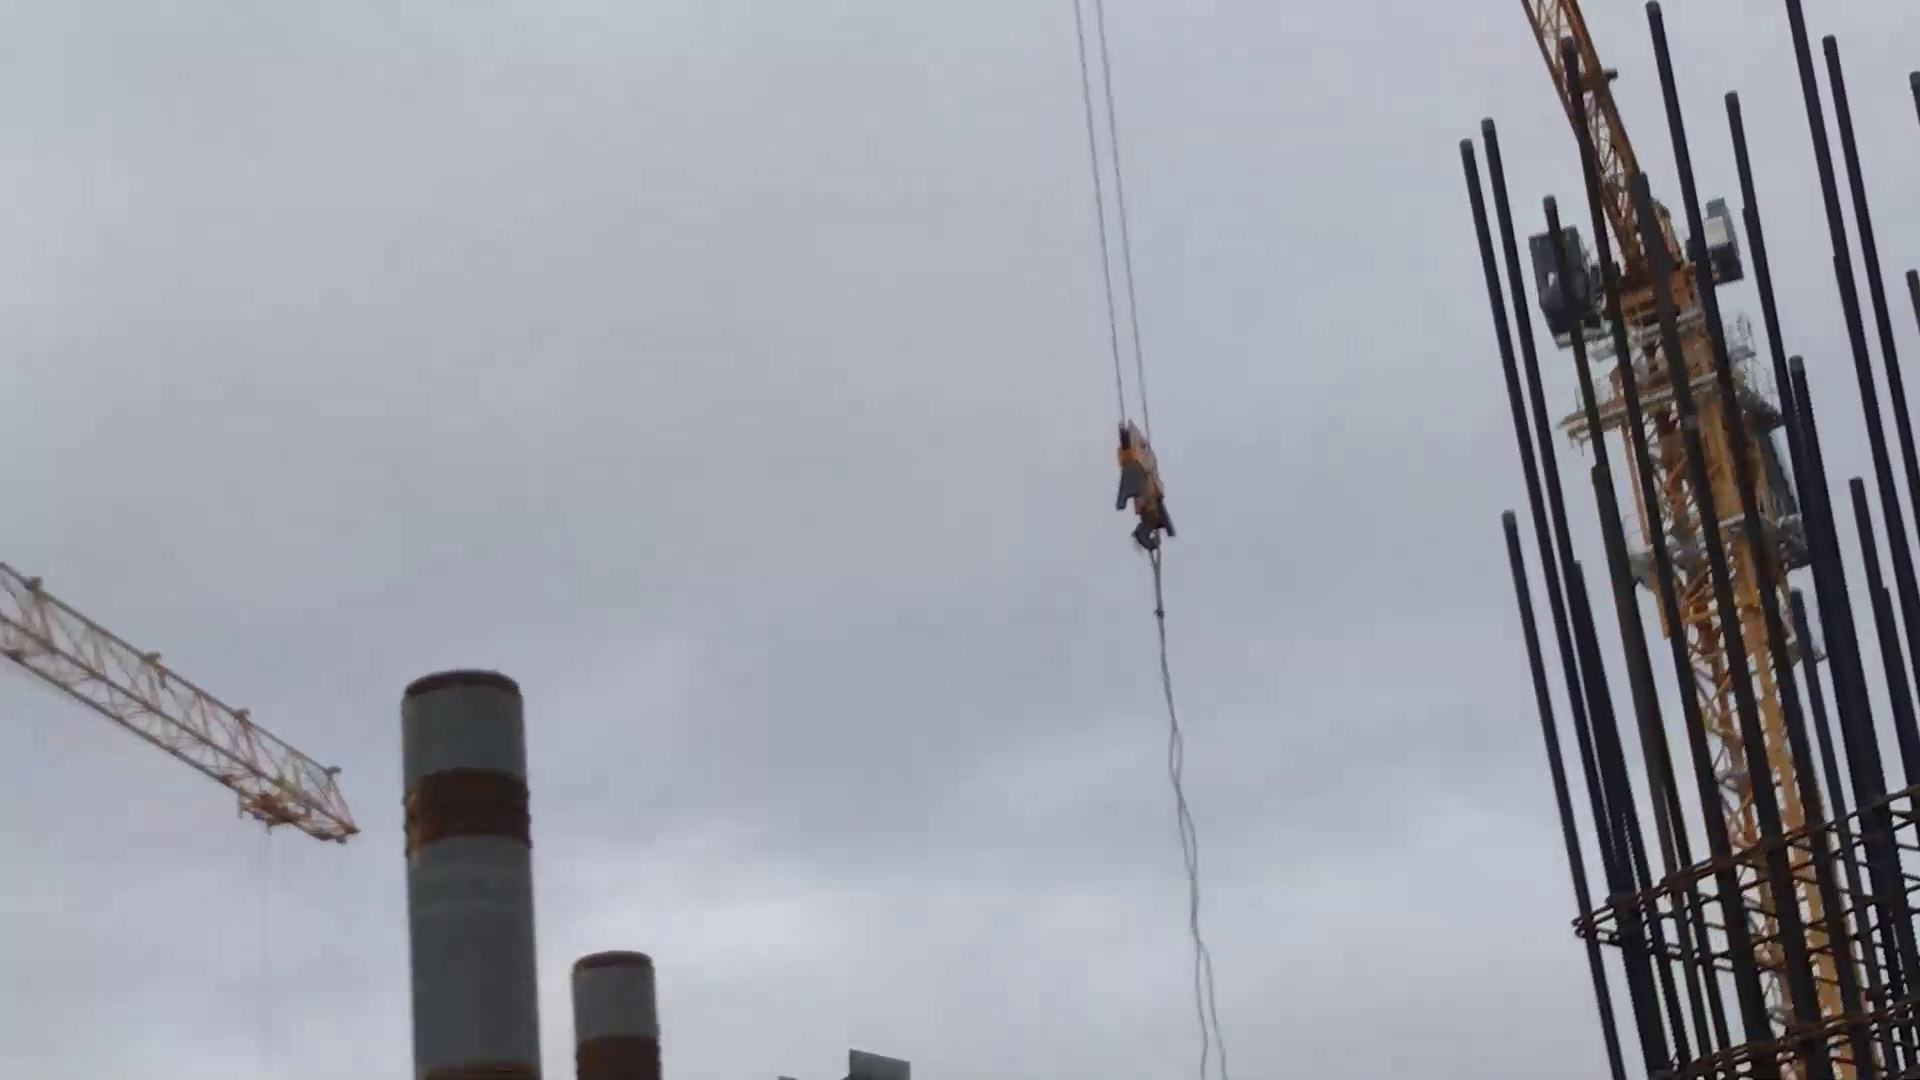hook: (1092, 407, 1200, 588)
